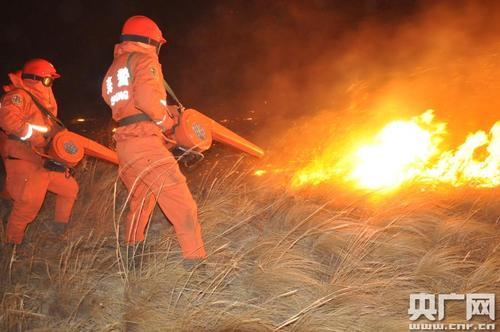fire: (351, 113, 500, 190)
